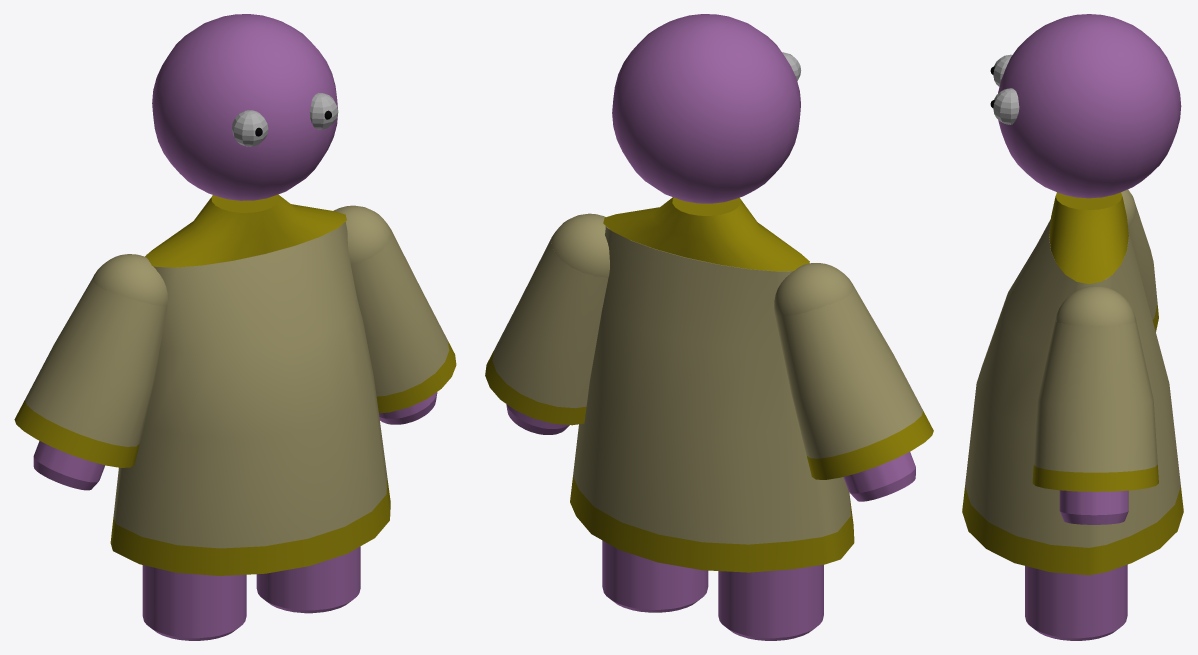
The model's file is StanColourBase.fbx.
3 views of the same model, side by side, from view 1: azimuth 30°, elevation 25°; view 2: azimuth 150°, elevation 25°; view 3: azimuth 270°, elevation 25° (orthographic). The views are drawn at different scales.
Visible parts, largest first — view 1: pCylinder2, polySurface1 (×2), head, pCylinder1, leg1, pSphere7 (×2), leg2, pCylinder3 (×2), pSphere2, pSphere3; view 2: pCylinder2, polySurface1 (×2), head, pCylinder1, leg1, pSphere7 (×2), leg2, pCylinder3 (×2); view 3: pCylinder2, head, polySurface1 (×2), leg2, pCylinder1, pSphere7 (×2), pCylinder3, pSphere3.
Boxes of the visible parts, x1,y1,x2,y2 form: pCylinder2: [110, 222, 390, 575]; polySurface1 (×2): [14, 228, 456, 467]; head: [152, 14, 338, 200]; pCylinder1: [145, 194, 346, 267]; leg1: [142, 565, 246, 640]; pSphere7 (×2): [93, 205, 391, 306]; leg2: [256, 546, 360, 613]; pCylinder3 (×2): [33, 392, 437, 490]; pSphere2: [232, 110, 268, 146]; pSphere3: [309, 93, 338, 129]; pCylinder2: [570, 226, 854, 572]; polySurface1 (×2): [485, 237, 933, 479]; head: [612, 14, 800, 203]; pCylinder1: [603, 197, 809, 271]; leg1: [718, 564, 823, 640]; pSphere7 (×2): [551, 213, 853, 316]; leg2: [602, 540, 708, 612]; pCylinder3 (×2): [506, 404, 915, 501]; pCylinder2: [962, 219, 1183, 575]; head: [998, 14, 1181, 198]; polySurface1 (×2): [1032, 203, 1158, 491]; leg2: [1025, 564, 1127, 640]; pCylinder1: [1049, 192, 1128, 283]; pSphere7 (×2): [1055, 189, 1136, 326]; pCylinder3: [1059, 490, 1128, 524]; pSphere3: [993, 88, 1019, 124].
Size of the model in its own units: 7.42 by 9.7 by 3.41.
